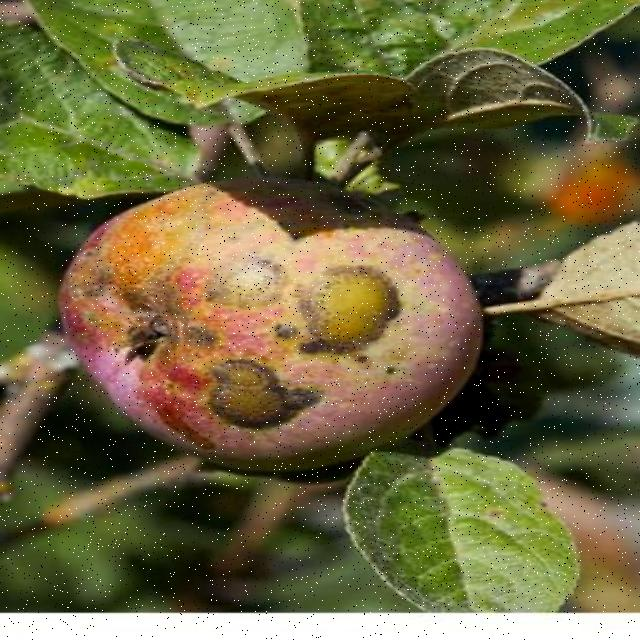SCAB: (54, 140, 550, 496)
